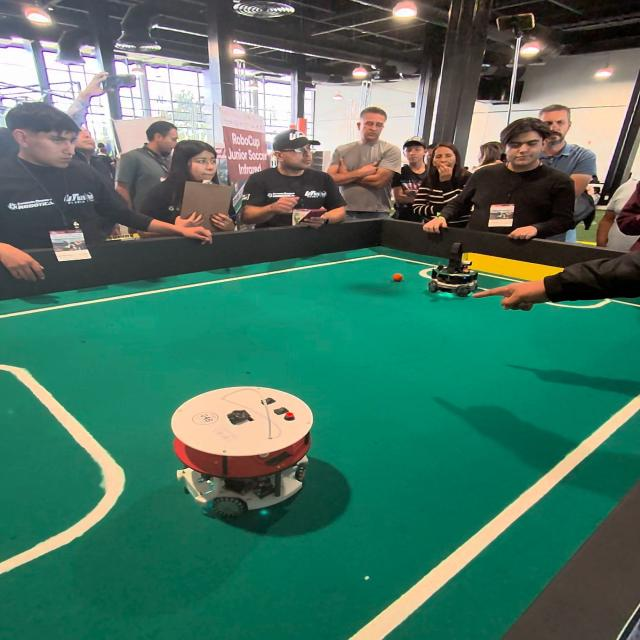Robot: (166, 371, 320, 534), (430, 242, 480, 302)
pelota: (392, 274, 402, 282)
